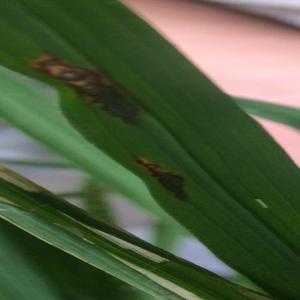Rice_Blast: (34, 53, 144, 133), (128, 142, 193, 209)
